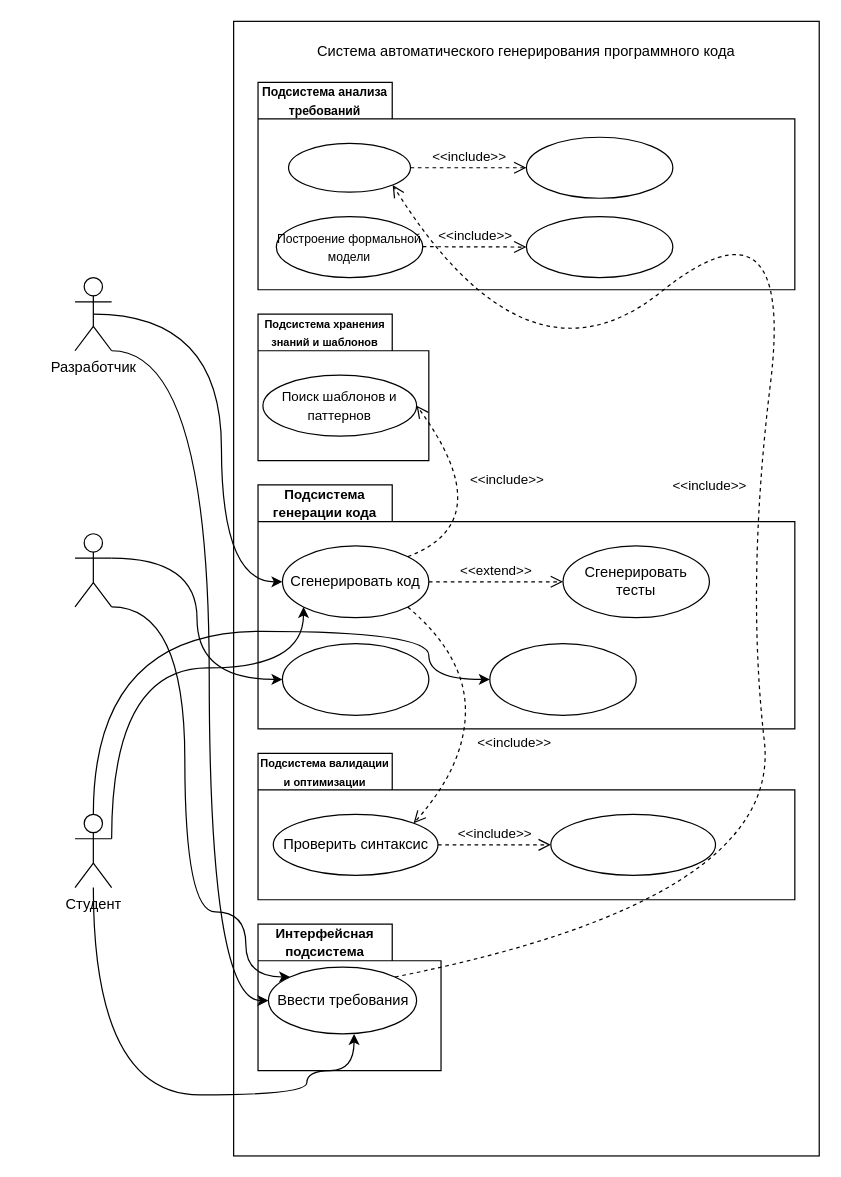
Some shapes in this 841 by 1177 pixel diagram are drawn without their labels. The shapes that lost their labels are listed below. From the top down, each one's centre as x and y in pixels, then its label:
(x=349, y=167): Ввод требований
(x=599, y=167): Обработка естественного языка
(x=599, y=246): Выявление неполноты в требованиях
(x=93, y=570): Системный аналитик
(x=355, y=678): Сгенерировать структуру проекта
(x=562, y=678): Сгенерировать комментарии и пояснения
(x=633, y=844): Запустить автомат. тесты
